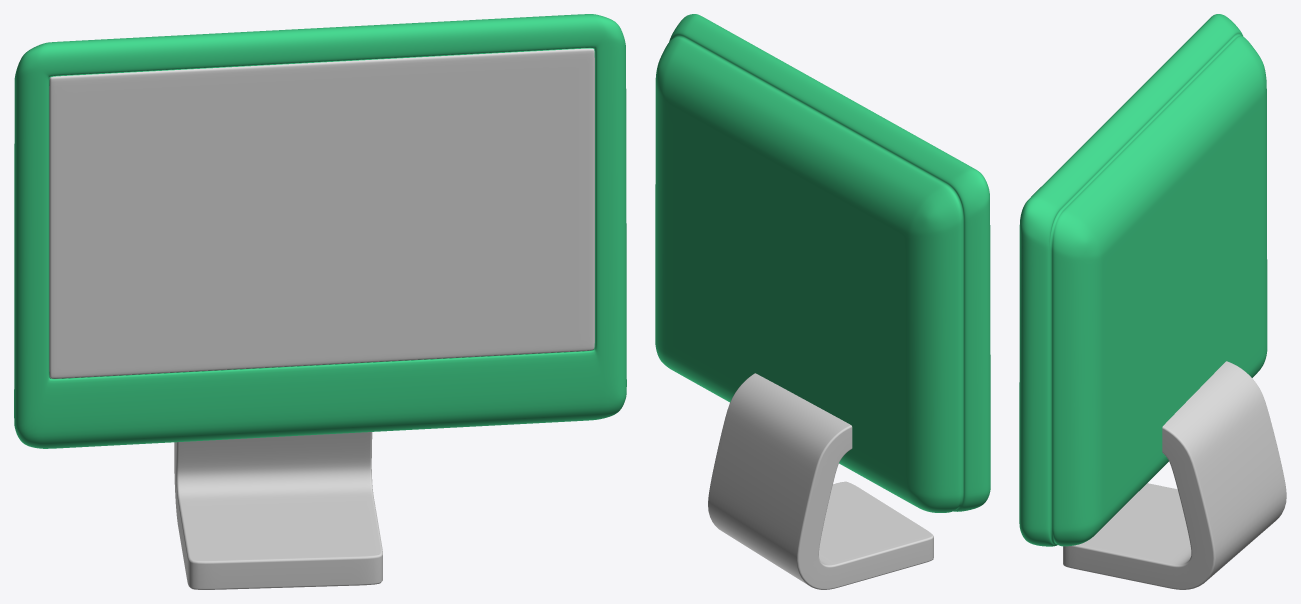
Rendered from pc-3d-icon-1448841868592.glb.
The picture shows the model from 3 angles, left to right: view 1: azimuth 30°, elevation 25°; view 2: azimuth 150°, elevation 25°; view 3: azimuth 270°, elevation 25°; orthographic projection. The views are drawn at different scales.
Parts seen in each view (by area): view 1: Screen, Monitor, Leg; view 2: Monitor, Leg; view 3: Monitor, Leg.
Boxes of the visible parts, x1,y1,x2,y2 form: Screen: (49, 48, 594, 378); Monitor: (14, 14, 626, 448); Leg: (174, 432, 382, 589); Monitor: (655, 14, 990, 512); Leg: (708, 373, 933, 589); Monitor: (1019, 14, 1267, 546); Leg: (1063, 361, 1286, 589).
Size of the model in its own units: 2.91 by 2.99 by 1.61.
